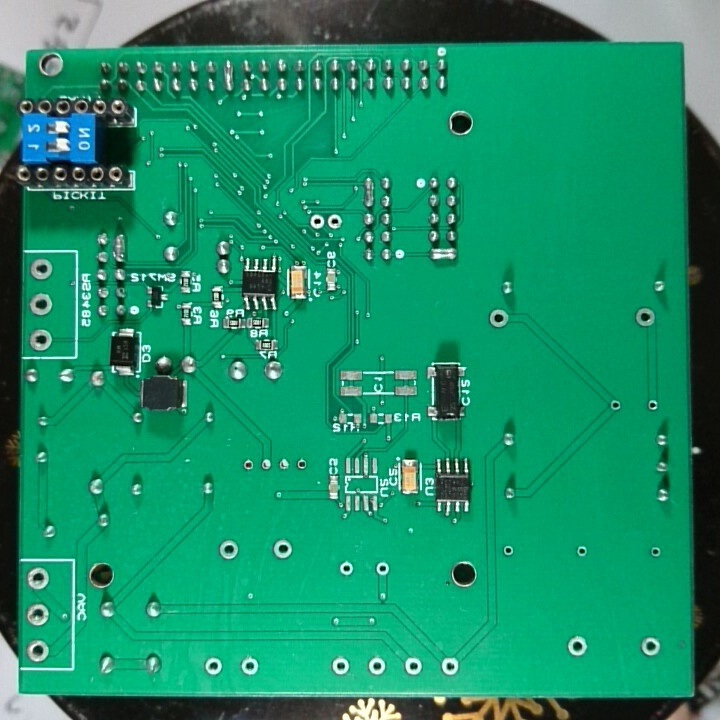F: (24, 601, 51, 631), (631, 304, 659, 331), (27, 326, 54, 354), (25, 637, 51, 666), (25, 565, 52, 592), (565, 633, 590, 661), (28, 257, 56, 282), (486, 306, 513, 331), (28, 292, 55, 317), (217, 538, 241, 563), (639, 635, 663, 658), (271, 537, 294, 561), (202, 655, 223, 680), (239, 655, 261, 678), (439, 654, 460, 678), (366, 655, 388, 677), (335, 558, 357, 580), (330, 655, 351, 678), (403, 655, 423, 678), (374, 560, 393, 579), (326, 212, 343, 232), (308, 212, 325, 232), (294, 455, 310, 475), (275, 455, 291, 474), (258, 456, 274, 473), (575, 543, 590, 561), (501, 542, 516, 560), (608, 398, 623, 415), (648, 543, 663, 560), (646, 396, 659, 415), (241, 457, 255, 472)
P: (110, 232, 129, 265), (220, 58, 237, 94), (428, 246, 459, 264), (362, 175, 377, 209)
